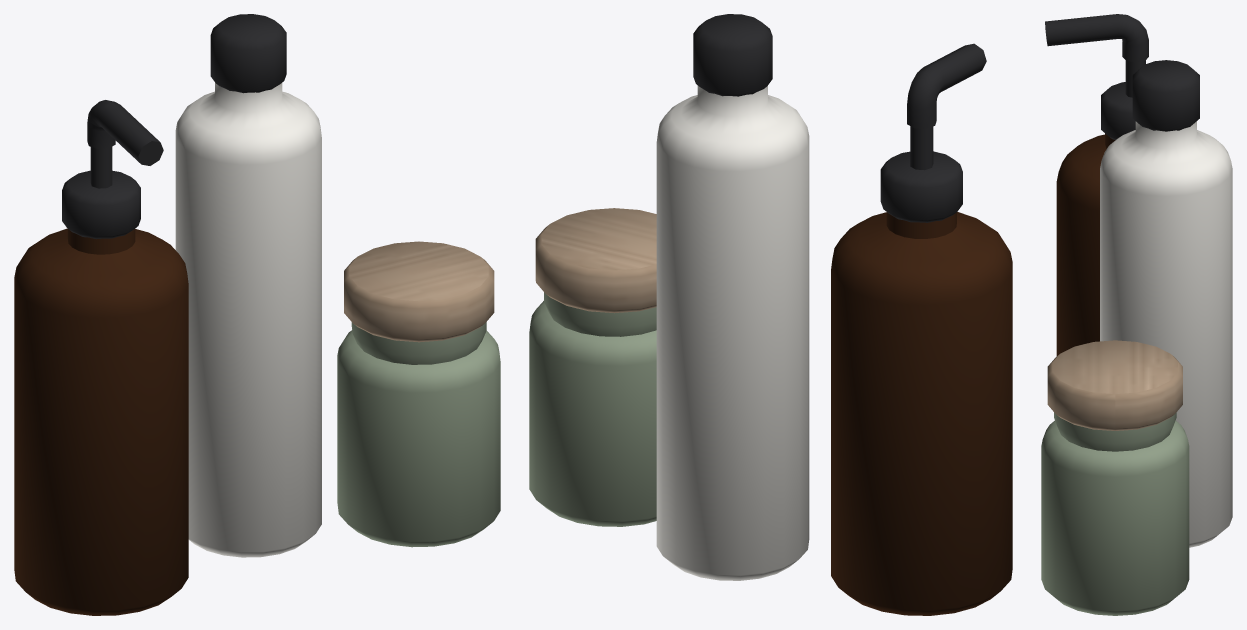
The model's file is soap.glb.
The picture shows the model from 3 angles, left to right: view 1: azimuth 30°, elevation 25°; view 2: azimuth 150°, elevation 25°; view 3: azimuth 270°, elevation 25°; orthographic projection. The views are drawn at different scales.
Visible parts, largest first — view 1: soap; view 2: soap; view 3: soap.
Boxes of the visible parts, bbox=[...] form: soap: bbox=[14, 14, 500, 615]; soap: bbox=[529, 14, 1012, 615]; soap: bbox=[1041, 14, 1232, 615].
Bounding box in the file's own units: 0.185 × 0.197 × 0.075.
5 materials, 1 textured.
